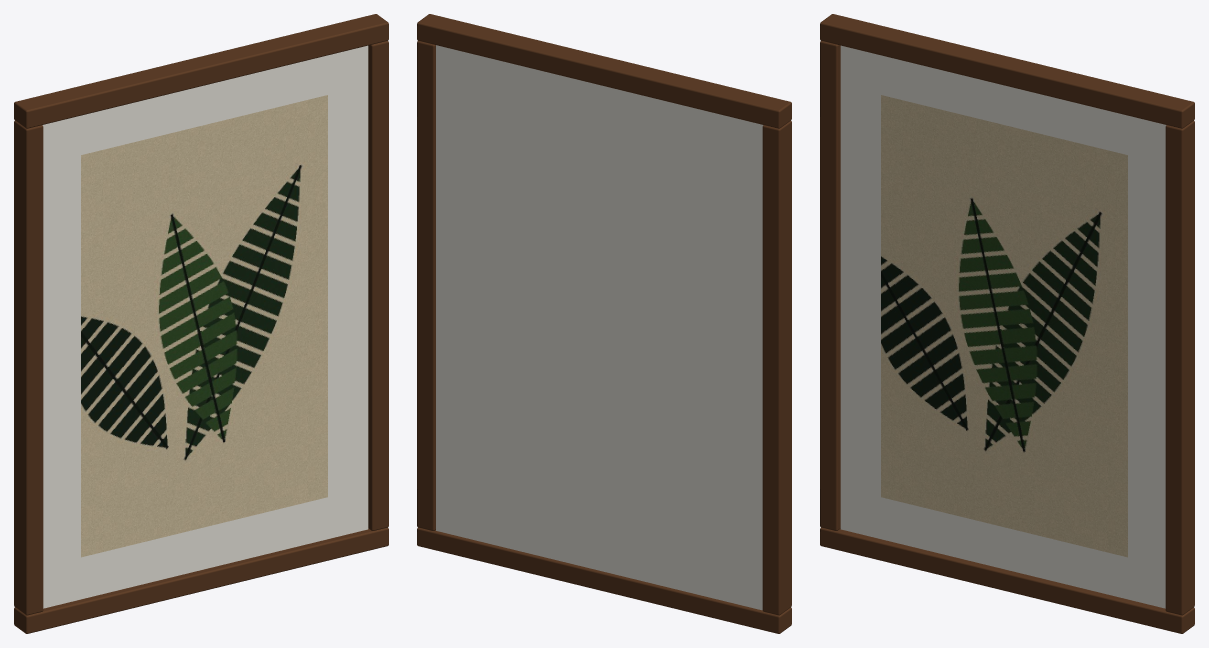
The model's file is quadro_folhas.glb.
3 views of the same model, side by side, from view 1: azimuth 30°, elevation 25°; view 2: azimuth 150°, elevation 25°; view 3: azimuth 330°, elevation 25° (orthographic).
Parts seen in each view (by area): view 1: q_pintura, q_passe, q_moldura_l, q_moldura_t, q_moldura_r, q_moldura_b; view 2: q_passe, q_moldura_l, q_moldura_t, q_moldura_r, q_moldura_b; view 3: q_pintura, q_passe, q_moldura_r, q_moldura_t, q_moldura_l, q_moldura_b.
Boxes of the visible parts, left/top/right/bottom form: q_pintura: left=81, top=95, right=327, bottom=557; q_passe: left=42, top=45, right=368, bottom=608; q_moldura_l: left=14, top=121, right=43, bottom=615; q_moldura_t: left=14, top=14, right=388, bottom=128; q_moldura_r: left=368, top=41, right=388, bottom=530; q_moldura_b: left=14, top=527, right=388, bottom=633; q_passe: left=436, top=45, right=763, bottom=610; q_moldura_l: left=762, top=121, right=791, bottom=615; q_moldura_t: left=417, top=14, right=791, bottom=128; q_moldura_r: left=417, top=41, right=435, bottom=530; q_moldura_b: left=417, top=527, right=791, bottom=633; q_pintura: left=881, top=95, right=1127, bottom=557; q_passe: left=840, top=45, right=1166, bottom=608; q_moldura_r: left=1165, top=121, right=1194, bottom=615; q_moldura_t: left=820, top=14, right=1194, bottom=128; q_moldura_l: left=820, top=41, right=840, bottom=530; q_moldura_b: left=820, top=527, right=1194, bottom=633.
Bounding box in the file's own units: 0.45 × 0.62 × 0.028.
3 materials, 1 textured.
